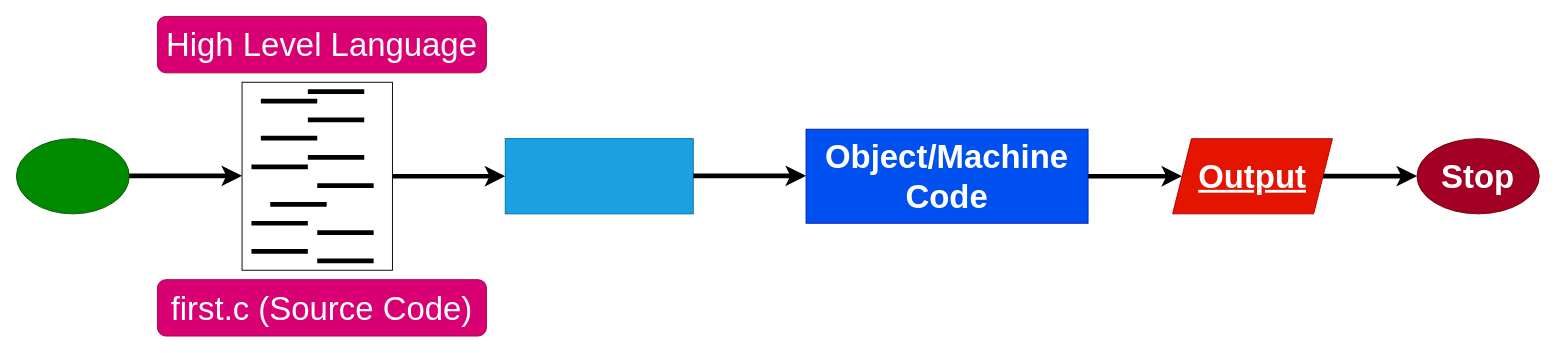
The diagram is 1556 pixels wide and 353 high, and some of its shapes have lost their labels. The box of each missing label's shape, as (x1, y1, x2, y2) in pixels:
Compiler: (504, 138, 693, 214)
Start: (16, 138, 129, 214)
